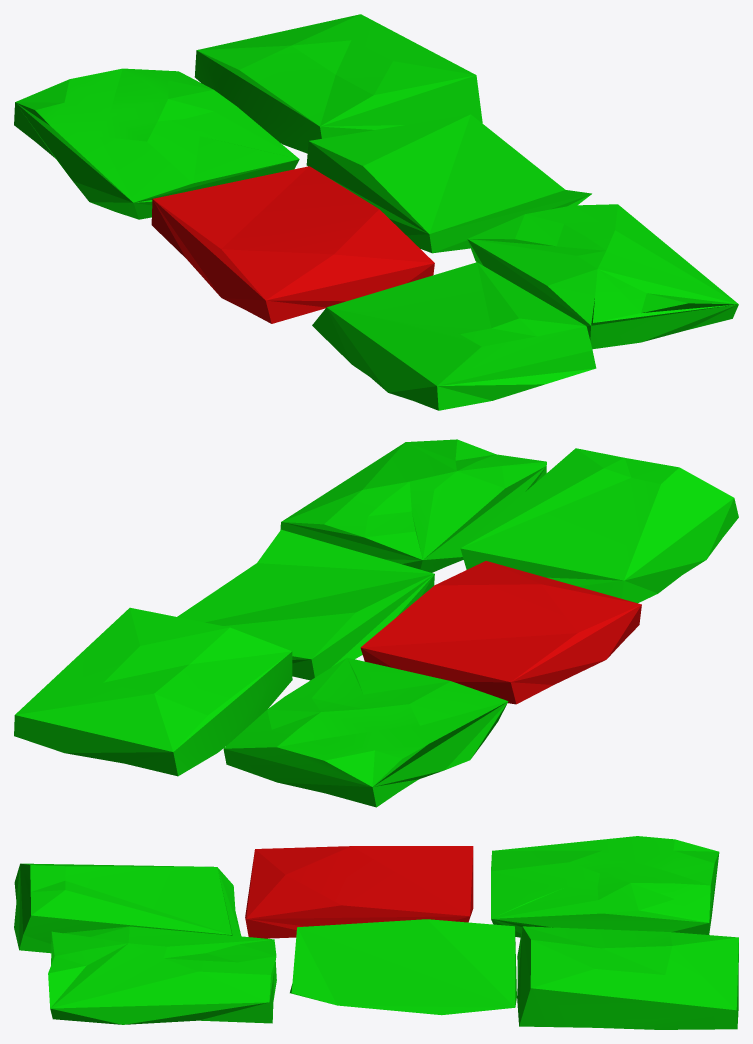
Rendered from Cobblestone_05.fbx.
3 renders of one model, top to bottom at view 1: azimuth 30°, elevation 25°; view 2: azimuth 150°, elevation 25°; view 3: azimuth 270°, elevation 25°, orthographic. The views are drawn at different scales.
Parts seen in each view (by area): view 1: Plane.006; view 2: Plane.006; view 3: Plane.006.
Part boxes in pixels (x1,y1,x2,y2): Plane.006: (14, 14, 738, 410); Plane.006: (14, 439, 738, 807); Plane.006: (14, 836, 738, 1029).
Size of the model in its own units: 106 by 16.67 by 202.
